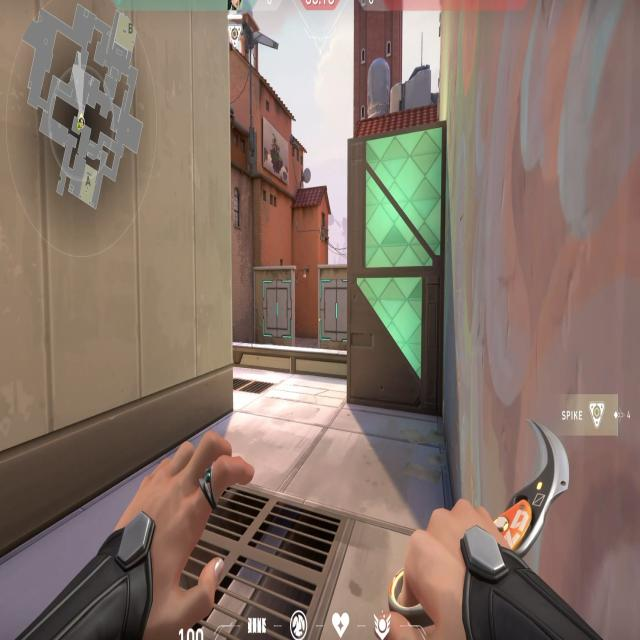Mid_Wall: (250, 258, 297, 351), (316, 260, 347, 346)
